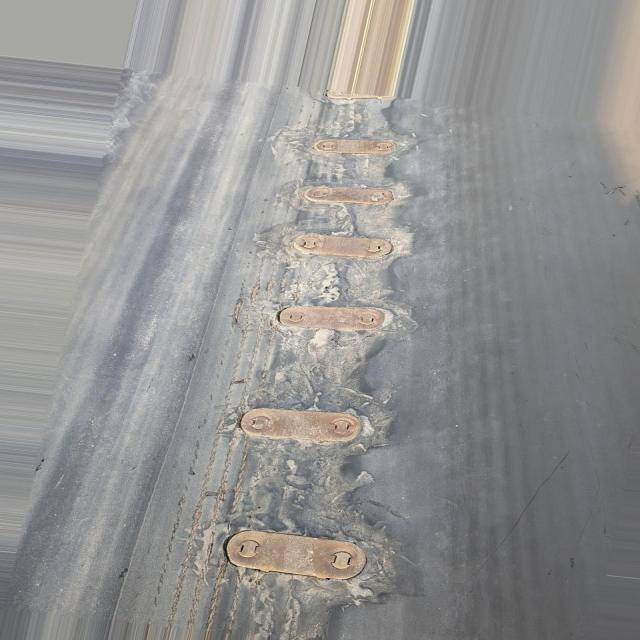patch work: (168, 97, 414, 616), (392, 222, 414, 267)
